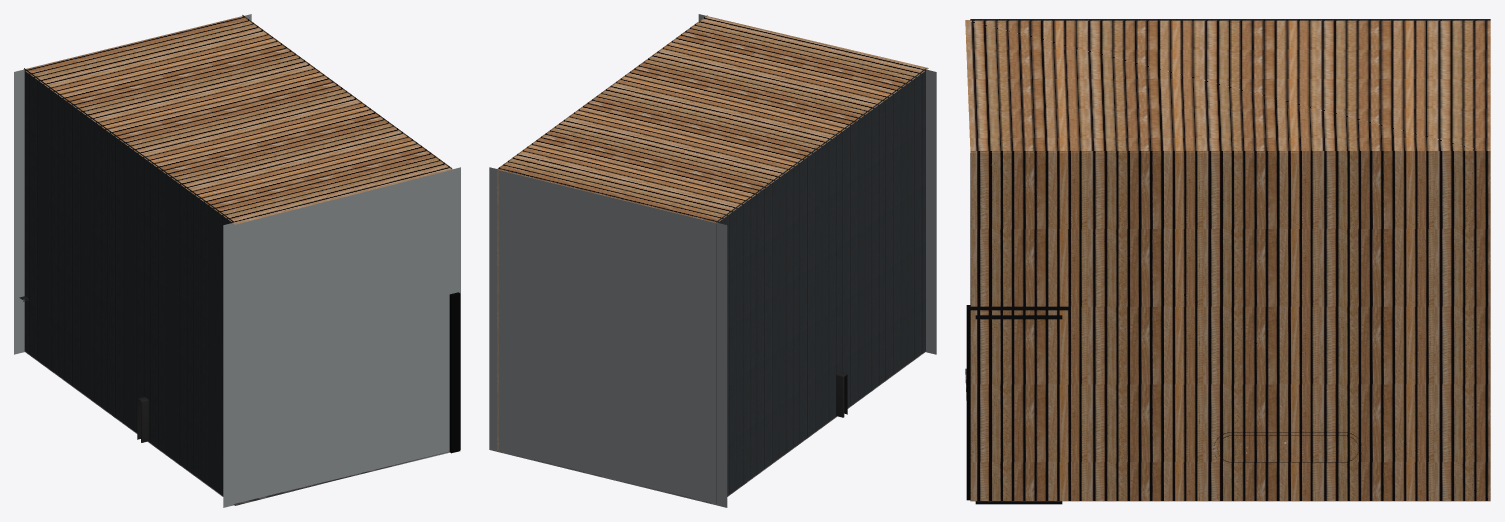
Rendered from UpdatedRoom.glb.
The picture shows the model from 3 angles, left to right: view 1: azimuth 30°, elevation 25°; view 2: azimuth 150°, elevation 25°; view 3: azimuth 270°, elevation 25°; orthographic projection. The views are drawn at different scales.
Visible parts, largest first — view 1: Plane.005, Plane.002, Plane.001, Plane.004, Door_low.002, Plane, Cube.985_Cube.003; view 2: Plane.004, Plane.002, Plane.001, Plane.005, Plane.003, Plane, Cube.985_Cube.003; view 3: Plane.003, Plane.001, Door_low.002, Plane.002.
Part boxes in pixels (<box>): Plane.005: <box>223,167,460,507</box>; Plane.002: <box>24,68,233,495</box>; Plane.001: <box>23,16,451,224</box>; Plane.004: <box>14,14,251,354</box>; Door_low.002: <box>449,292,460,453</box>; Plane: <box>24,351,448,505</box>; Cube.985_Cube.003: <box>137,397,148,442</box>; Plane.004: <box>489,167,727,507</box>; Plane.002: <box>716,68,926,503</box>; Plane.001: <box>498,16,928,223</box>; Plane.005: <box>698,14,936,354</box>; Plane.003: <box>497,15,707,450</box>; Plane: <box>498,351,926,504</box>; Cube.985_Cube.003: <box>836,371,847,417</box>; Plane.003: <box>970,151,1490,500</box>; Plane.001: <box>965,20,1490,152</box>; Door_low.002: <box>966,305,1070,504</box>; Plane.002: <box>970,19,1490,304</box>.
Bounding box in the file's own units: 5.5 × 6.28 × 8.5.
Materials: 29 (12 with a texture image).
